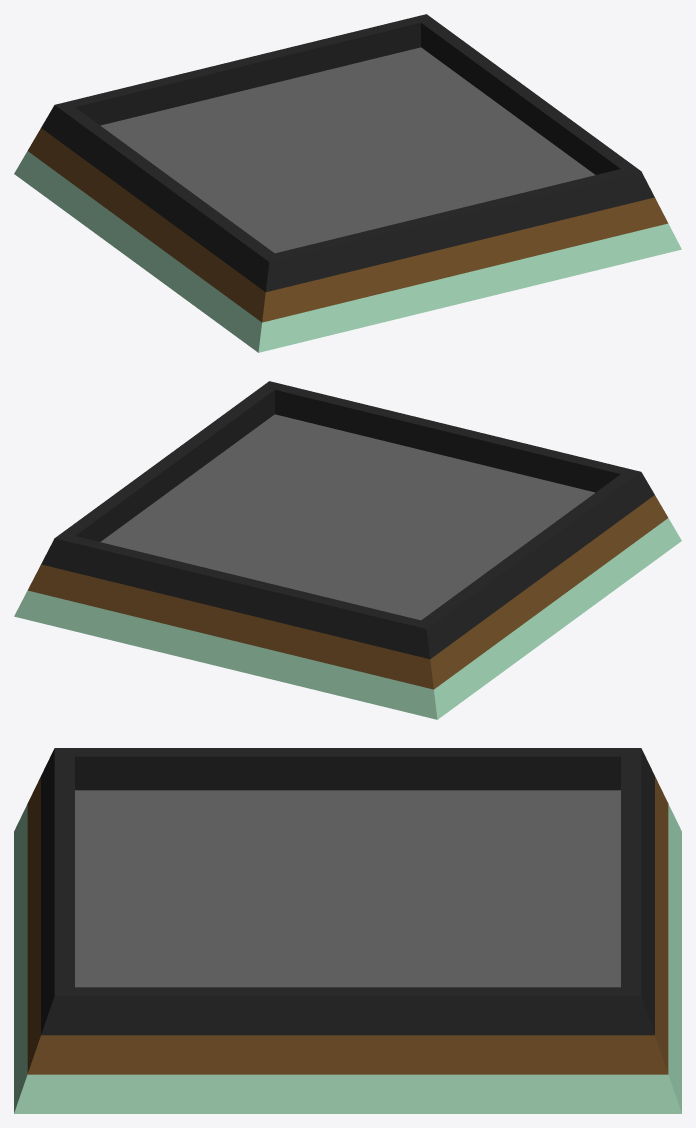
Rendered from GameBoard2Obj.fbx.
3 renders of one model, top to bottom at view 1: azimuth 30°, elevation 25°; view 2: azimuth 150°, elevation 25°; view 3: azimuth 270°, elevation 25°, orthographic. The views are drawn at different scales.
Visible parts, largest first — view 1: Cube, Cube.001; view 2: Cube, Cube.001; view 3: Cube, Cube.001.
Boxes of the visible parts, x1=… form: Cube: x1=14, y1=14, x2=681, y2=352; Cube.001: x1=100, y1=47, x2=595, y2=253; Cube: x1=14, y1=381, x2=681, y2=719; Cube.001: x1=100, y1=414, x2=595, y2=620; Cube: x1=14, y1=748, x2=681, y2=1113; Cube.001: x1=75, y1=790, x2=620, y2=987.
Bounding box in the file's own units: 200 × 33.24 × 200.
